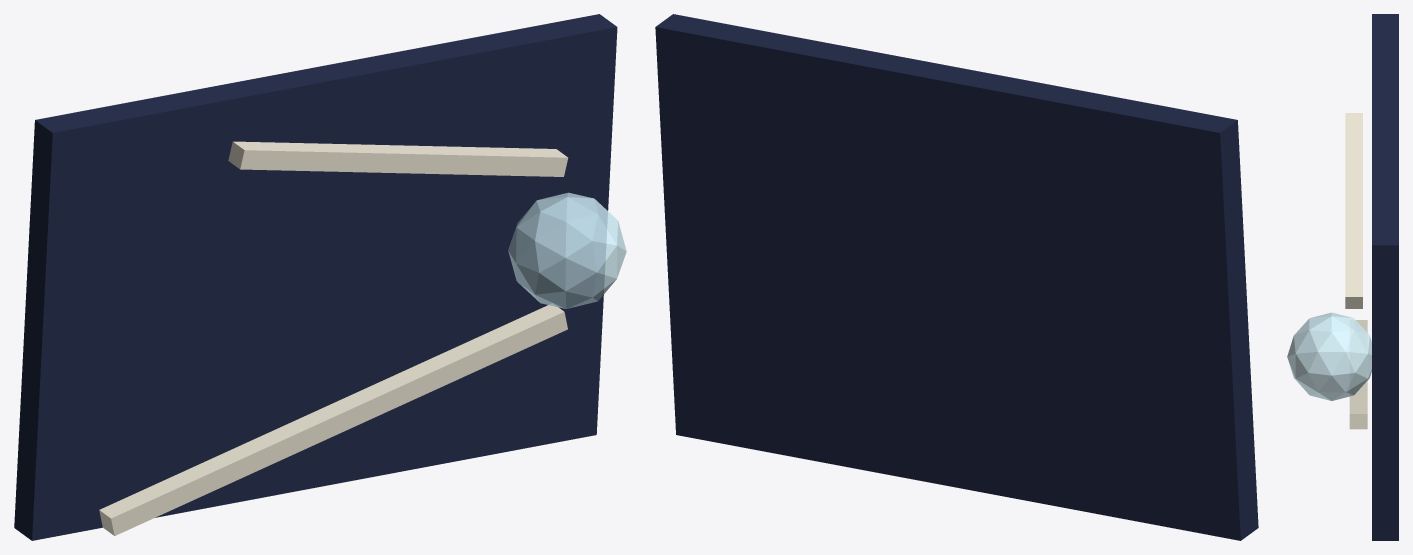
The model's file is 02_world_prop_polish.glb.
3 views of the same model, side by side, from view 1: azimuth 30°, elevation 25°; view 2: azimuth 150°, elevation 25°; view 3: azimuth 270°, elevation 25° (orthographic). The views are drawn at different scales.
Visible parts, largest first — view 1: object_overlay_plate, edge_wear_a, glow_socket, edge_wear_b; view 2: object_overlay_plate; view 3: object_overlay_plate, glow_socket, edge_wear_b, edge_wear_a.
Boxes of the visible parts, x1=… form: object_overlay_plate: x1=14, y1=14, x2=617, y2=540; edge_wear_a: x1=99, y1=304, x2=567, y2=535; glow_socket: x1=508, y1=192, x2=626, y2=308; edge_wear_b: x1=228, y1=141, x2=568, y2=176; object_overlay_plate: x1=655, y1=14, x2=1258, y2=540; object_overlay_plate: x1=1372, y1=14, x2=1398, y2=540; glow_socket: x1=1287, y1=312, x2=1371, y2=400; edge_wear_b: x1=1345, y1=113, x2=1362, y2=308; edge_wear_a: x1=1349, y1=320, x2=1367, y2=429.
Bounding box in the file's own units: 1.14 × 0.808 × 0.25.
